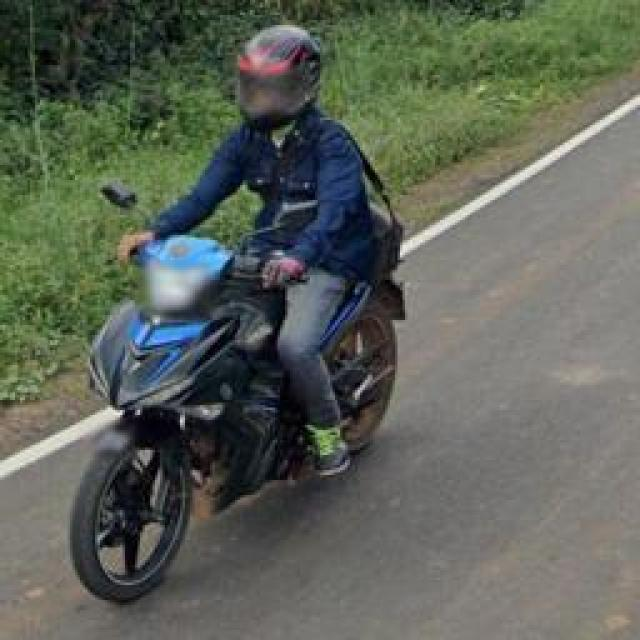Motor: (68, 235, 405, 608)
